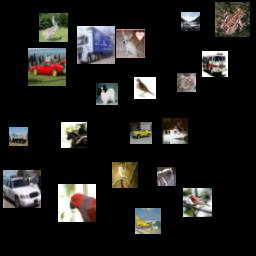airplane: (135, 208, 161, 234), (181, 12, 200, 31)
automobile: (28, 48, 66, 86), (3, 170, 41, 208), (130, 122, 152, 144)
bird: (58, 184, 96, 222), (39, 13, 68, 42), (183, 188, 212, 217), (112, 162, 138, 188), (134, 77, 156, 99), (157, 167, 176, 186)
cat: (177, 73, 196, 92)
dog: (116, 29, 145, 58), (96, 83, 118, 105)
frog: (215, 2, 250, 37)
ship: (162, 118, 188, 144)
truck: (77, 26, 115, 64), (202, 51, 228, 77), (9, 127, 28, 146)
